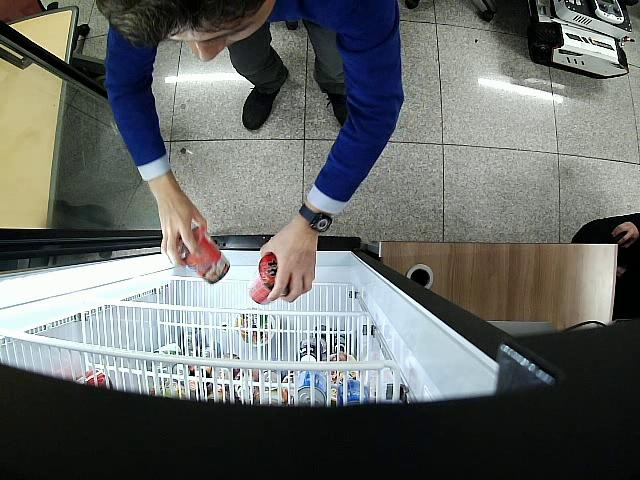00_hand: (260, 222, 317, 302), (161, 178, 207, 267)
02_shinRamen_S: (179, 226, 231, 284), (248, 253, 278, 303)
